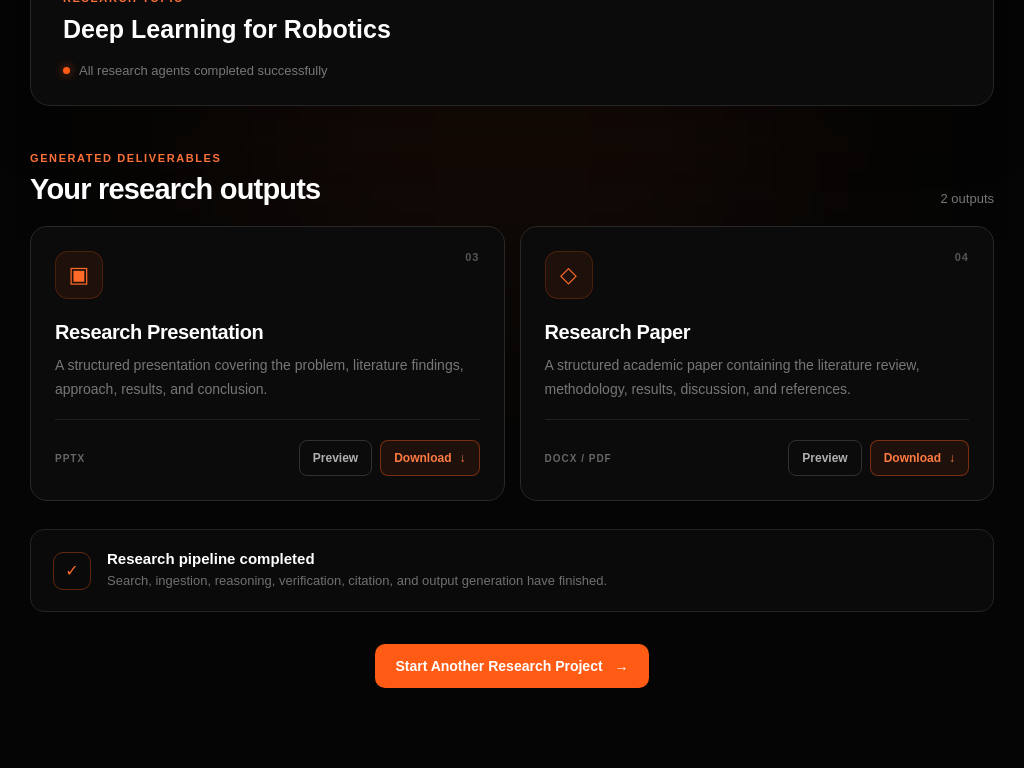
Test case: Outputs Component - Preview and Download Actions › Preview modal can be closed via Escape key
This screenshot has width=1024, height=768.
(page scrolled)
Click the button with aria-label "preview research paper" at [825, 458], box [788, 440, 862, 476]
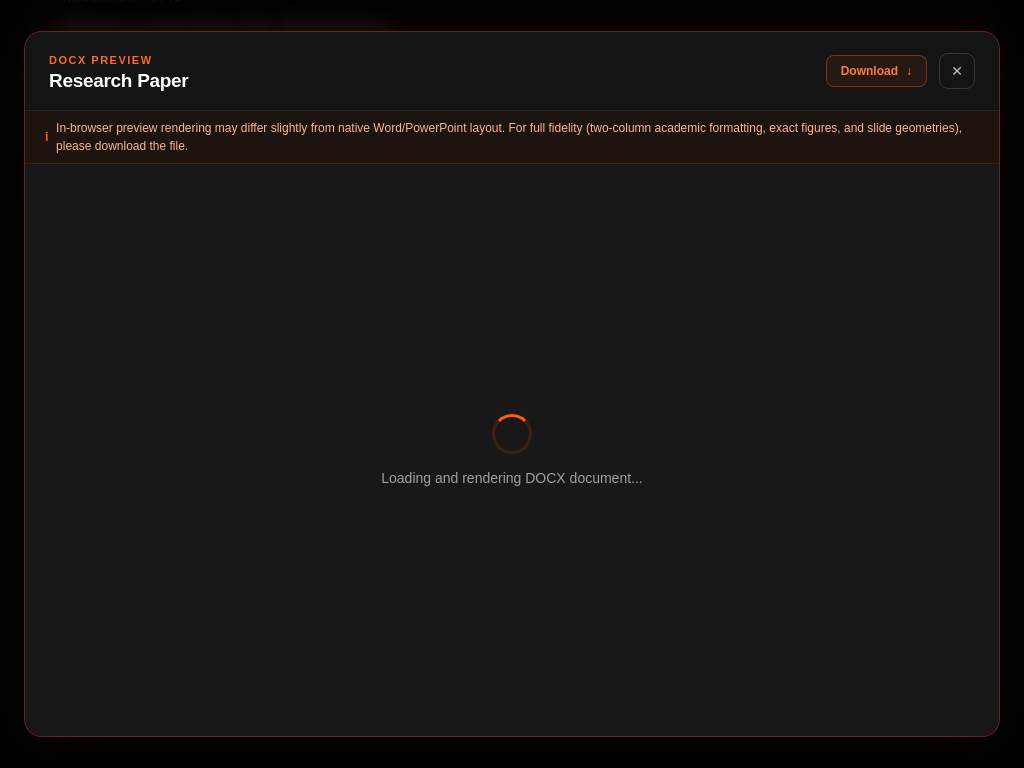
Check: the dialog is shown
Note: Press Escape
Press Escape
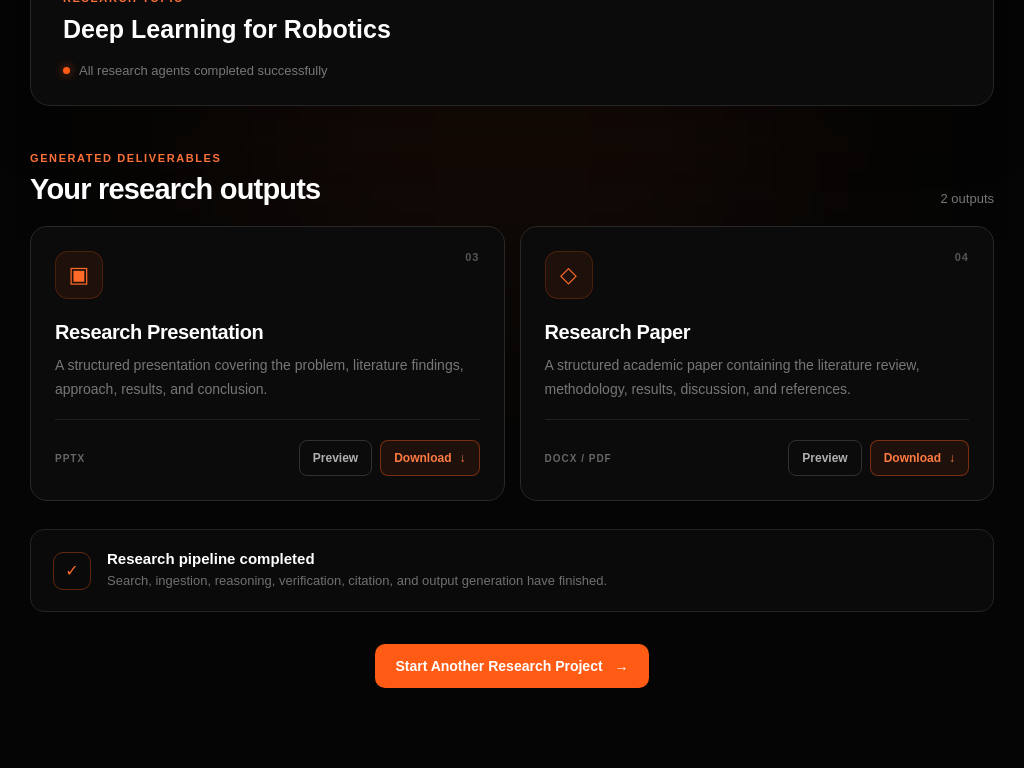
Check: the dialog is gone
